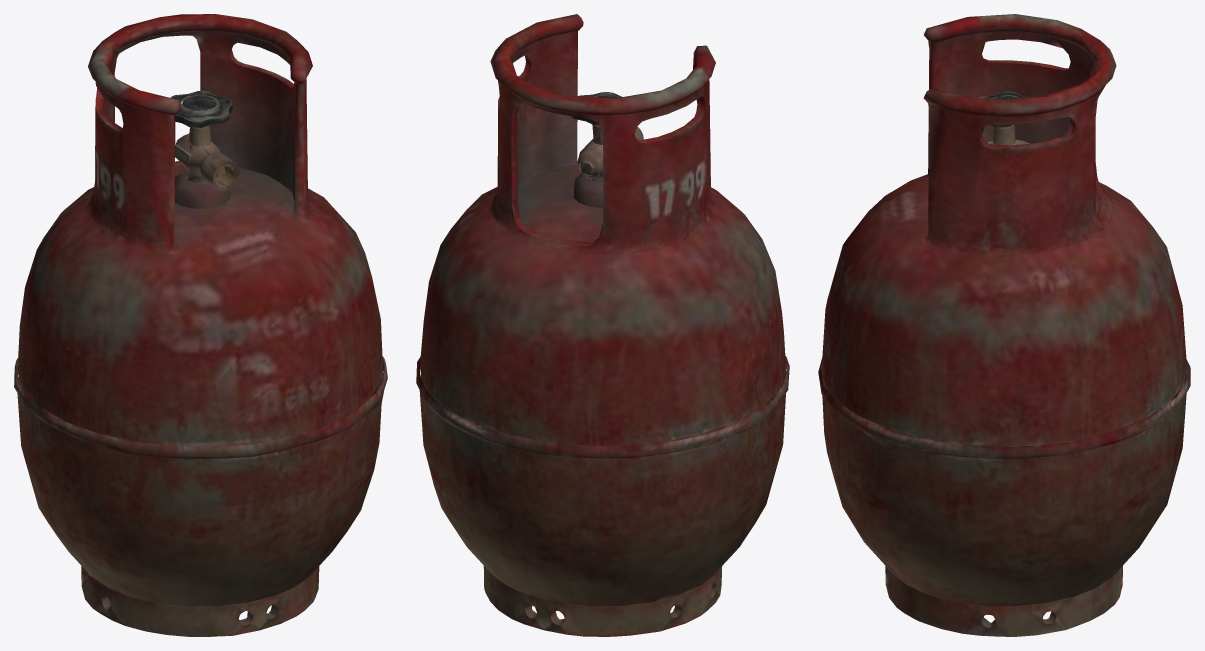
The model's file is small_lpg_tank.glb.
The picture shows the model from 3 angles, left to right: view 1: azimuth 30°, elevation 25°; view 2: azimuth 150°, elevation 25°; view 3: azimuth 270°, elevation 25°; orthographic projection.
Visible parts, largest first — view 1: small_lpg_tank; view 2: small_lpg_tank; view 3: small_lpg_tank.
Part boxes in pixels (bbox=[...]): small_lpg_tank: bbox=[14, 14, 387, 636]; small_lpg_tank: bbox=[416, 14, 789, 636]; small_lpg_tank: bbox=[818, 14, 1190, 636].
Bounding box in the file's own units: 0.4101 × 0.6423 × 0.4097.
1 material, 1 textured.
